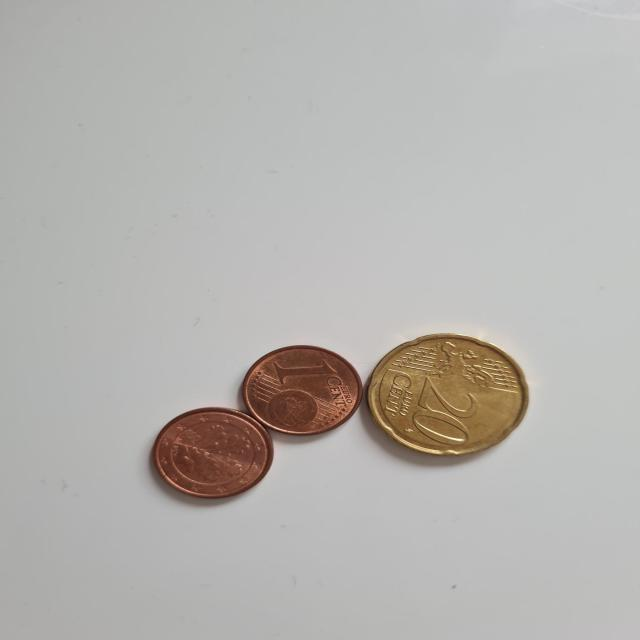1c: (142, 400, 280, 506), (233, 341, 369, 441)
20c: (362, 329, 540, 470)
